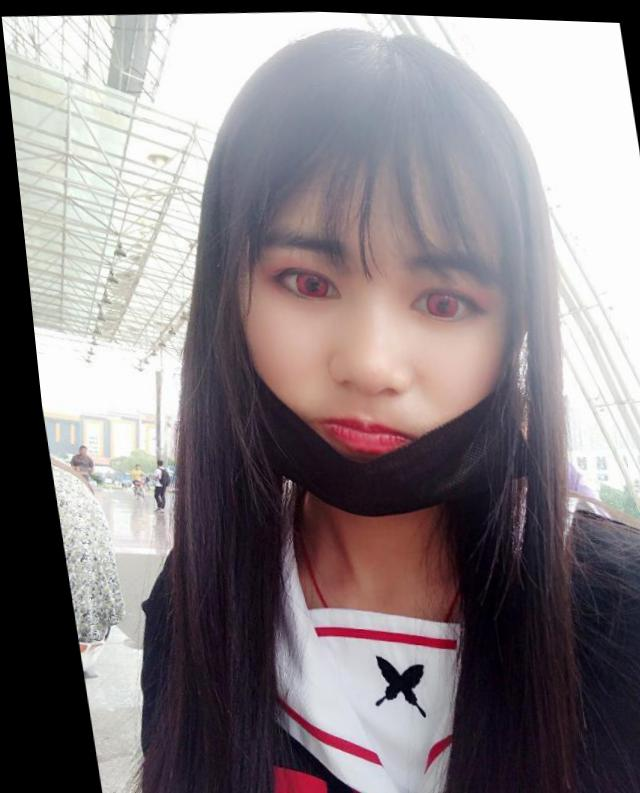WRONG: (207, 166, 533, 519)
